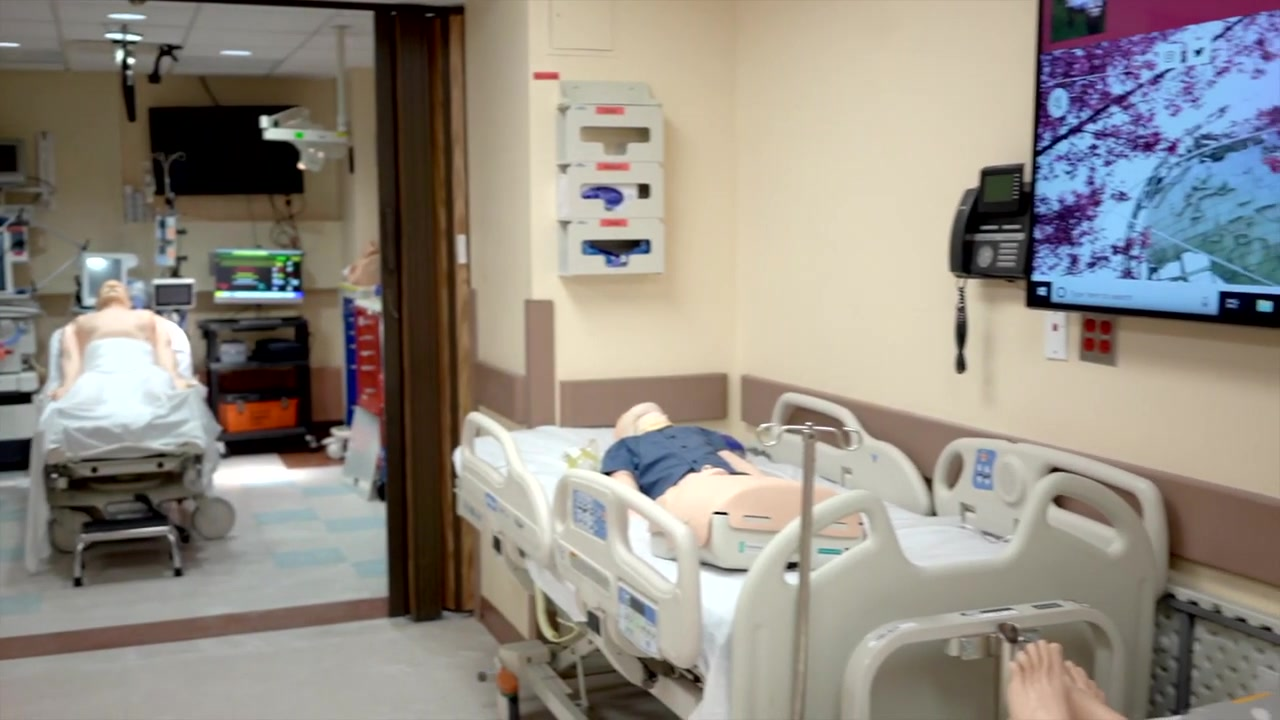TV: (1025, 1, 1280, 324), (143, 108, 301, 194)
bedrail: (934, 436, 1167, 594), (555, 467, 702, 661), (769, 389, 923, 501), (454, 414, 546, 551)
bedside_monitor: (212, 248, 305, 305), (84, 253, 125, 308), (151, 283, 192, 304)
foot_board: (724, 469, 1153, 720)
handle: (361, 320, 377, 327), (360, 351, 376, 358), (360, 335, 376, 342), (361, 365, 377, 372), (363, 388, 377, 395)
hospital_bed: (450, 389, 1158, 720), (29, 315, 237, 549)
iv_pole: (755, 423, 866, 720), (151, 150, 188, 215)
medical_drawer: (352, 301, 386, 423)
telephone: (944, 167, 1023, 379)
utility_cart: (206, 318, 319, 449)
